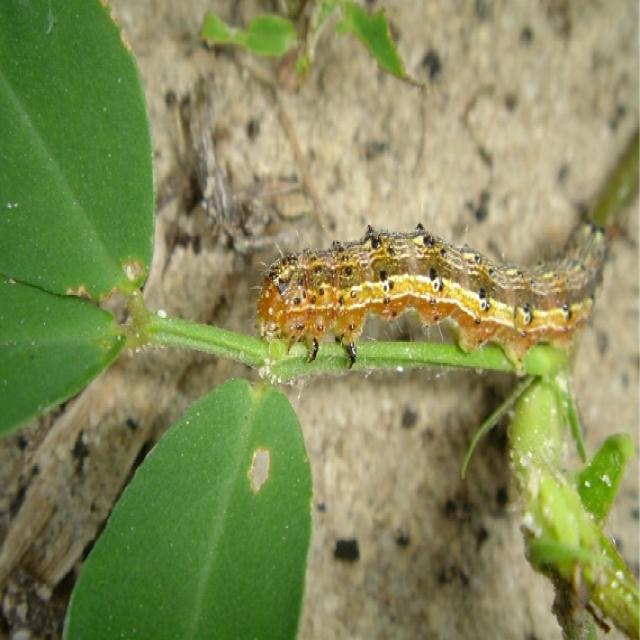Corn-earworm: (262, 229, 608, 375)
